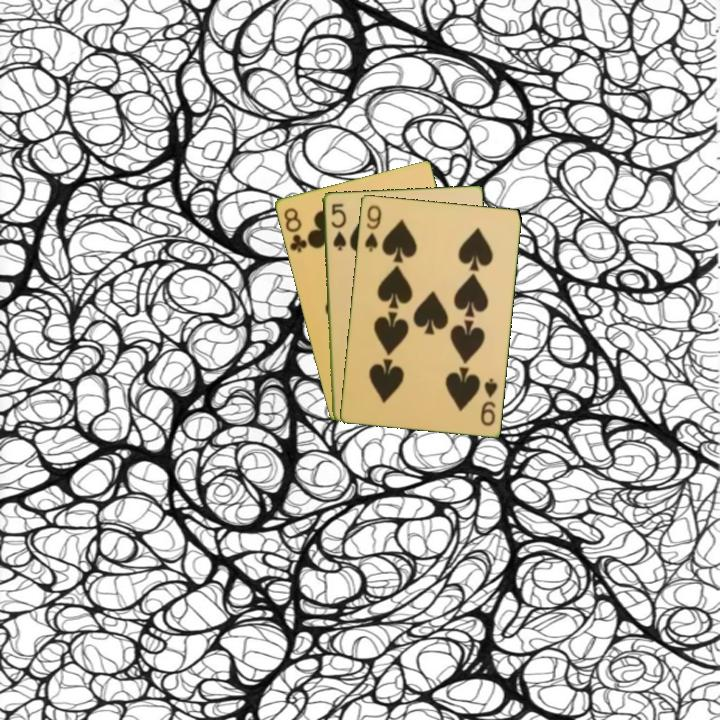5s: (327, 200, 349, 253)
8c: (280, 204, 310, 255)
9s: (477, 374, 500, 428), (361, 201, 384, 254)
